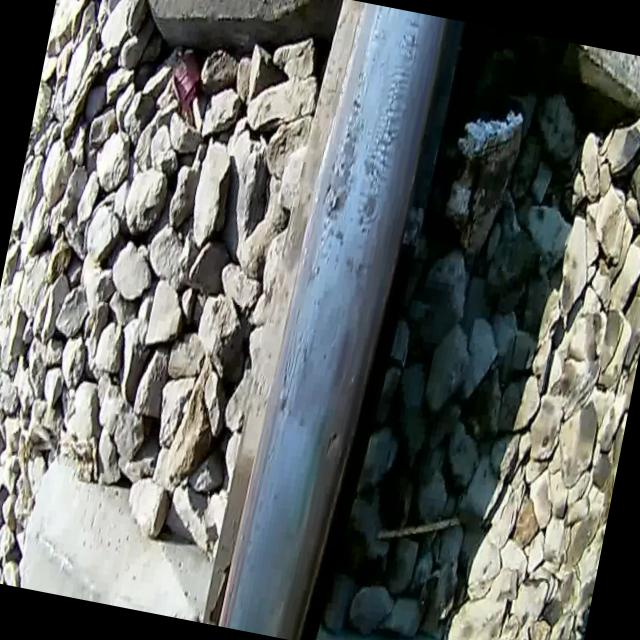Cracks: (270, 296, 312, 416)
Spallings: (318, 419, 343, 468)
Squats: (262, 276, 367, 550), (340, 8, 429, 285), (310, 81, 376, 253)
